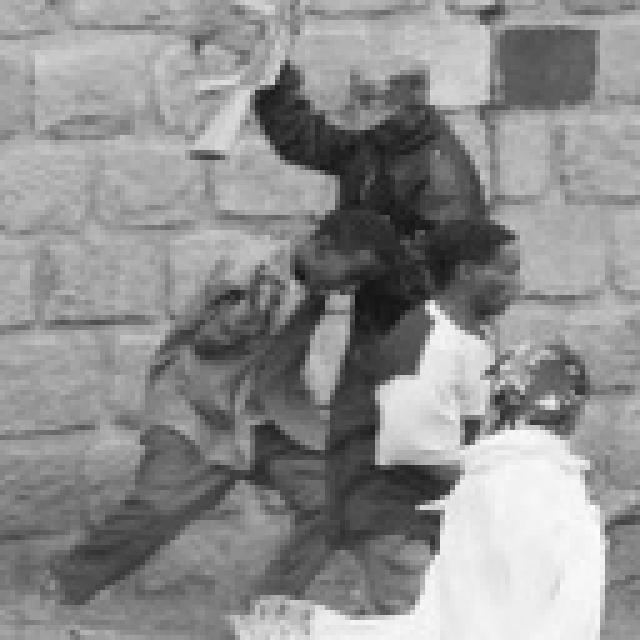Rifle: (0, 0, 90, 460), (128, 0, 345, 174)
